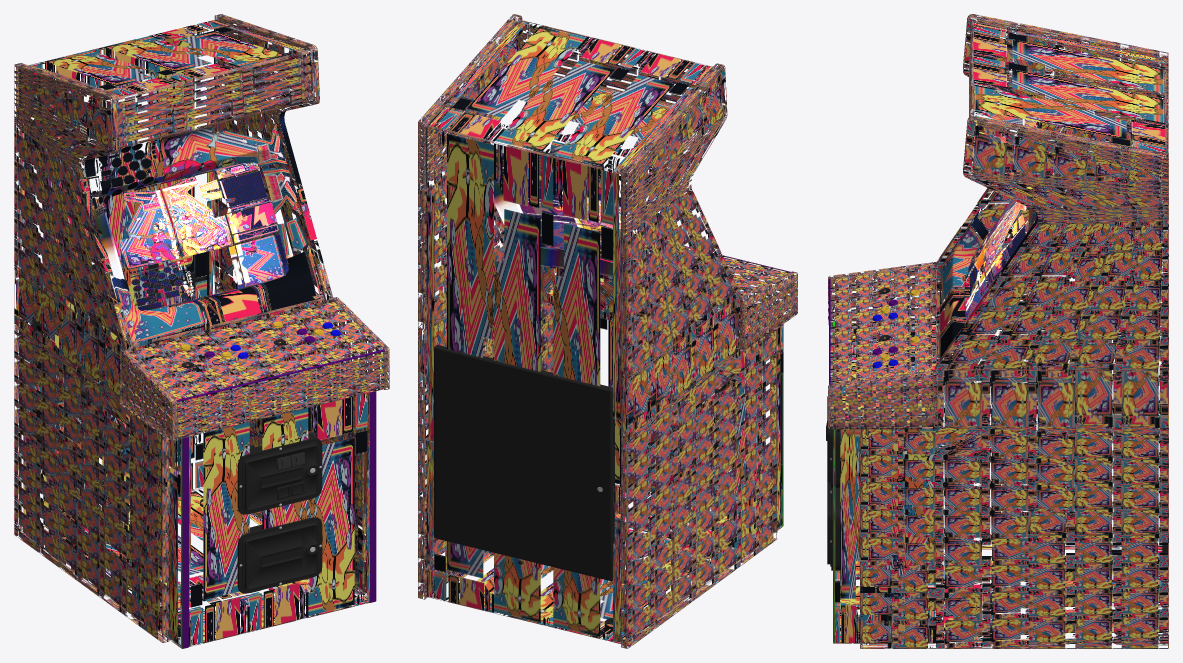
Rendered from arcade_09_final_packed_UNITY2.fbx.
3 views of the same model, side by side, from view 1: azimuth 30°, elevation 25°; view 2: azimuth 150°, elevation 25°; view 3: azimuth 270°, elevation 25° (orthographic). The views are drawn at different scales.
Visible parts, largest first — view 1: arcade.006, arcade.010; view 2: arcade.006, arcade.010; view 3: arcade.006, arcade.010.
Boxes of the visible parts, bbox=[...] form: arcade.006: bbox=[14, 14, 389, 648]; arcade.010: bbox=[81, 162, 293, 330]; arcade.006: bbox=[418, 14, 797, 648]; arcade.010: bbox=[494, 177, 701, 301]; arcade.006: bbox=[826, 14, 1168, 648]; arcade.010: bbox=[964, 158, 1056, 364].
Bounding box in the file's own units: 1088 × 2451 × 1426.
